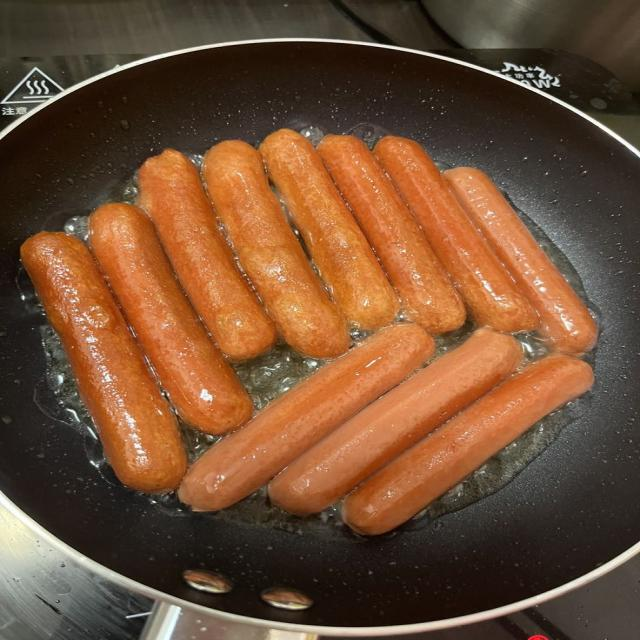sausage: (180, 323, 434, 510), (269, 329, 522, 514), (343, 355, 593, 534), (21, 233, 186, 493), (90, 203, 253, 434), (374, 137, 538, 332), (203, 141, 349, 358), (318, 136, 466, 334), (139, 149, 276, 360), (444, 168, 598, 354), (260, 130, 399, 330)
